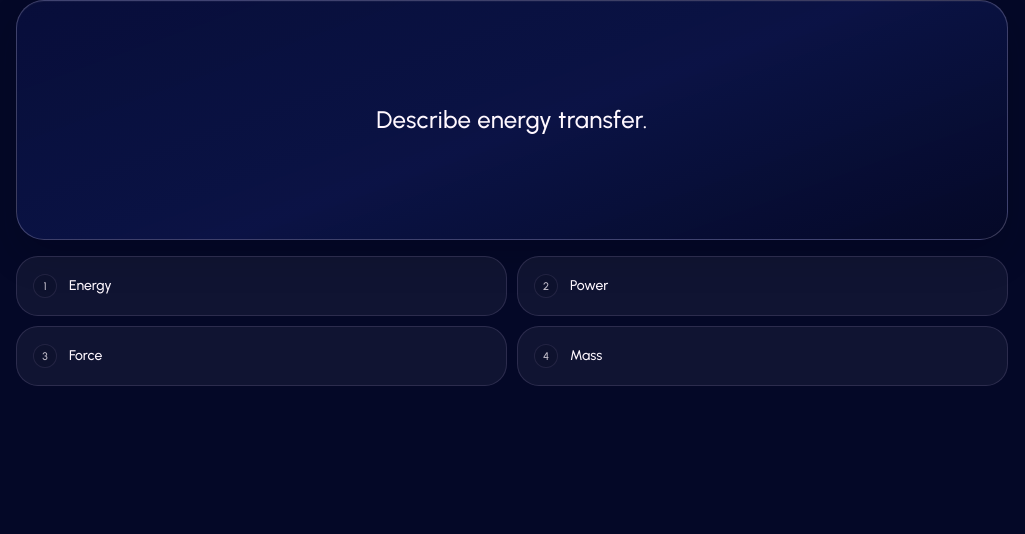
it: restores MCQ selection and its revealed explanation
Click the radio button labelled "2 Power".
click(589, 286)  # box top-left (517, 256), bottom-right (1008, 316)
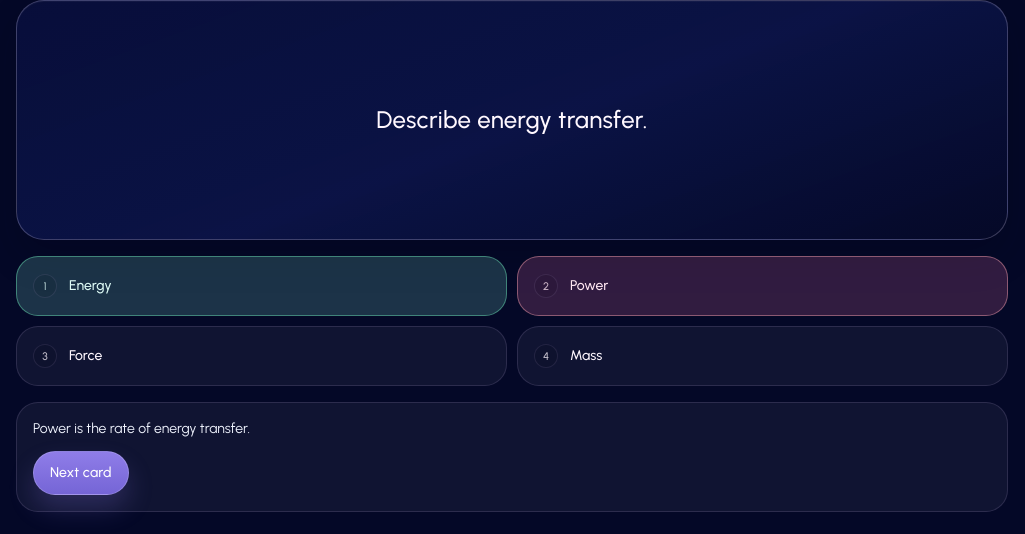
Now the text "Power is the rate of energy transfer." is shown, box top-left (33, 420), bottom-right (250, 437)
